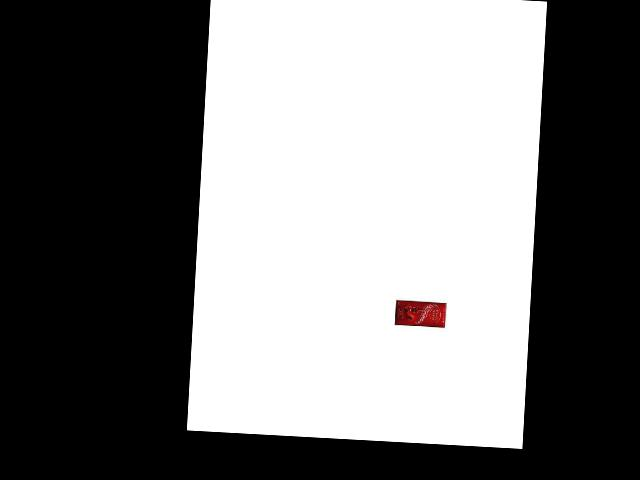chocolate: (390, 298, 447, 328)
